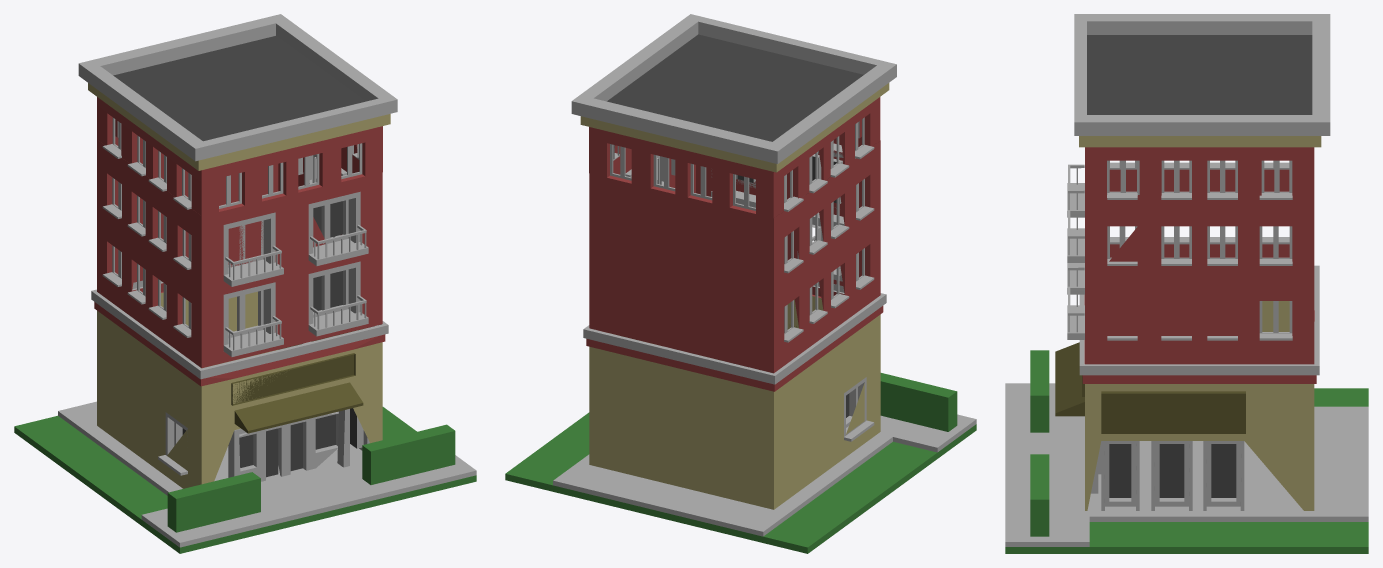
The model's file is hq_near.glb.
The picture shows the model from 3 angles, left to right: view 1: azimuth 30°, elevation 25°; view 2: azimuth 150°, elevation 25°; view 3: azimuth 270°, elevation 25°; orthographic projection. The views are drawn at different scales.
Parts seen in each view (by area): view 1: Object017_17 - Default_0, Object016_16 - Defaultghj_0, Object018_06 - Default_0, Object019_04_0, Object014_15 - Default6_0, Object020_15 - Default_0; view 2: Object016_16 - Defaultghj_0, Object018_06 - Default_0, Object017_17 - Default_0, Object019_04_0, Object014_15 - Default6_0; view 3: Object017_17 - Default_0, Object016_16 - Defaultghj_0, Object019_04_0, Object018_06 - Default_0, Object014_15 - Default6_0, Object020_15 - Default_0.
Part boxes in pixels (x1=…): Object017_17 - Default_0: x1=58, y1=14, x2=476, y2=547; Object016_16 - Defaultghj_0: x1=94, y1=97, x2=385, y2=386; Object018_06 - Default_0: x1=88, y1=83, x2=390, y2=488; Object019_04_0: x1=113, y1=36, x2=365, y2=477; Object014_15 - Default6_0: x1=14, y1=407, x2=476, y2=553; Object020_15 - Default_0: x1=231, y1=339, x2=363, y2=433; Object016_16 - Defaultghj_0: x1=586, y1=97, x2=883, y2=391; Object018_06 - Default_0: x1=580, y1=83, x2=889, y2=509; Object017_17 - Default_0: x1=553, y1=14, x2=976, y2=536; Object019_04_0: x1=607, y1=34, x2=863, y2=417; Object014_15 - Default6_0: x1=505, y1=373, x2=976, y2=553; Object017_17 - Default_0: x1=1005, y1=14, x2=1368, y2=546; Object016_16 - Defaultghj_0: x1=1082, y1=147, x2=1316, y2=383; Object019_04_0: x1=1087, y1=35, x2=1312, y2=497; Object018_06 - Default_0: x1=1079, y1=136, x2=1321, y2=510; Object014_15 - Default6_0: x1=1005, y1=350, x2=1368, y2=553; Object020_15 - Default_0: x1=1055, y1=342, x2=1245, y2=433.
Size of the model in its own units: 154 by 184 by 149.
